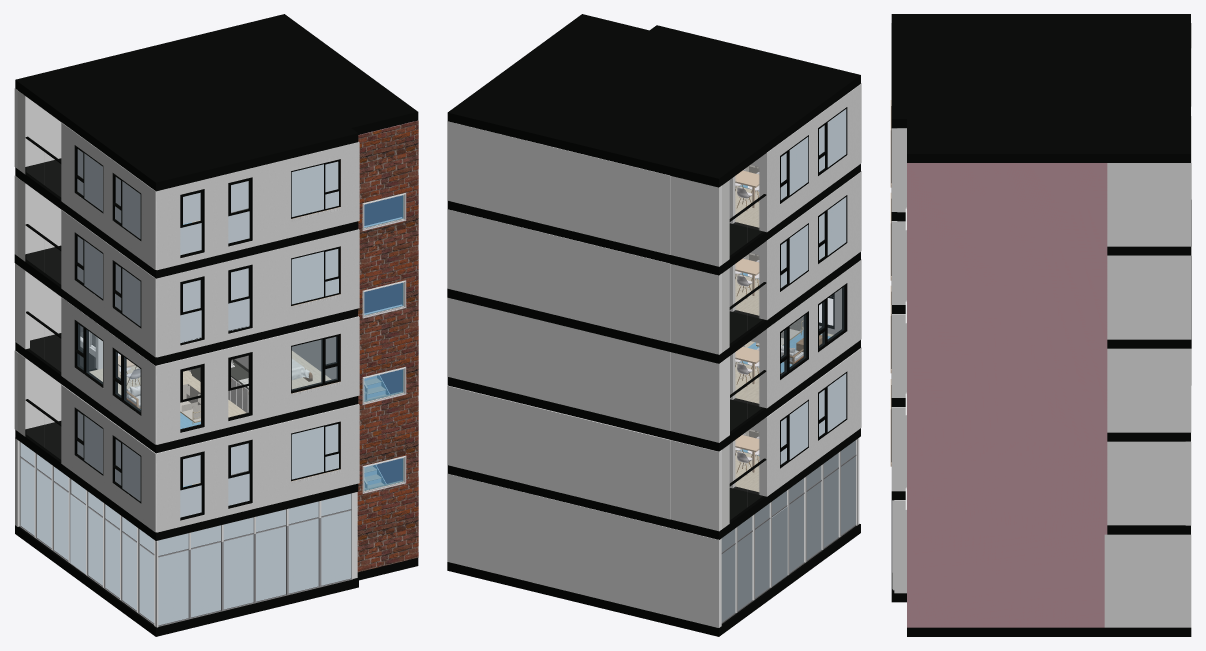
The picture shows the model from 3 angles, left to right: view 1: azimuth 30°, elevation 25°; view 2: azimuth 150°, elevation 25°; view 3: azimuth 270°, elevation 25°; orthographic projection. The views are drawn at different scales.
Visible parts, largest first — view 1: Wall Walls <632022 iW2w - 6" WOOD WALL<, Plane.002, Plane, FamilyInstance Doors MAHG_Suite Door_Ext_Double_Sliding <632, Wall Walls <632094 Generic - 4"<, Plane.013, FamilyInstance Furniture M_Sofa-Corbu <662053 Sofa<; view 2: Wall Walls <632022 iW2w - 6" WOOD WALL<, Plane.002, FamilyInstance Doors MAHG_Suite Door_Ext_Double_Sliding <632, Plane.013, Wall Walls <632094 Generic - 4"<; view 3: Wall Walls <632022 iW2w - 6" WOOD WALL<, Wall Walls <632094 Generic - 4"<.
Part boxes in pixels (x1=…): Wall Walls <632022 iW2w - 6" WOOD WALL<: x1=14, y1=14, x2=418, y2=636; Plane.002: x1=61, y1=123, x2=359, y2=532; Plane: x1=357, y1=120, x2=418, y2=572; FamilyInstance Doors MAHG_Suite Door_Ext_Double_Sliding <632: x1=44, y1=153, x2=403, y2=490; Wall Walls <632094 Generic - 4"<: x1=14, y1=88, x2=358, y2=532; Plane.013: x1=89, y1=220, x2=331, y2=487; FamilyInstance Furniture M_Sofa-Corbu <662053 Sofa<: x1=180, y1=384, x2=200, y2=421; Wall Walls <632022 iW2w - 6" WOOD WALL<: x1=447, y1=14, x2=860, y2=636; Plane.002: x1=767, y1=83, x2=861, y2=496; FamilyInstance Doors MAHG_Suite Door_Ext_Double_Sliding <632: x1=733, y1=166, x2=843, y2=506; Plane.013: x1=735, y1=185, x2=833, y2=491; Wall Walls <632094 Generic - 4"<: x1=719, y1=84, x2=860, y2=531; Wall Walls <632022 iW2w - 6" WOOD WALL<: x1=890, y1=14, x2=1191, y2=636; Wall Walls <632094 Generic - 4"<: x1=891, y1=23, x2=1191, y2=491.
Size of the model in its own units: 32.34 by 51.97 by 29.34.
16 materials, 16 textured.
